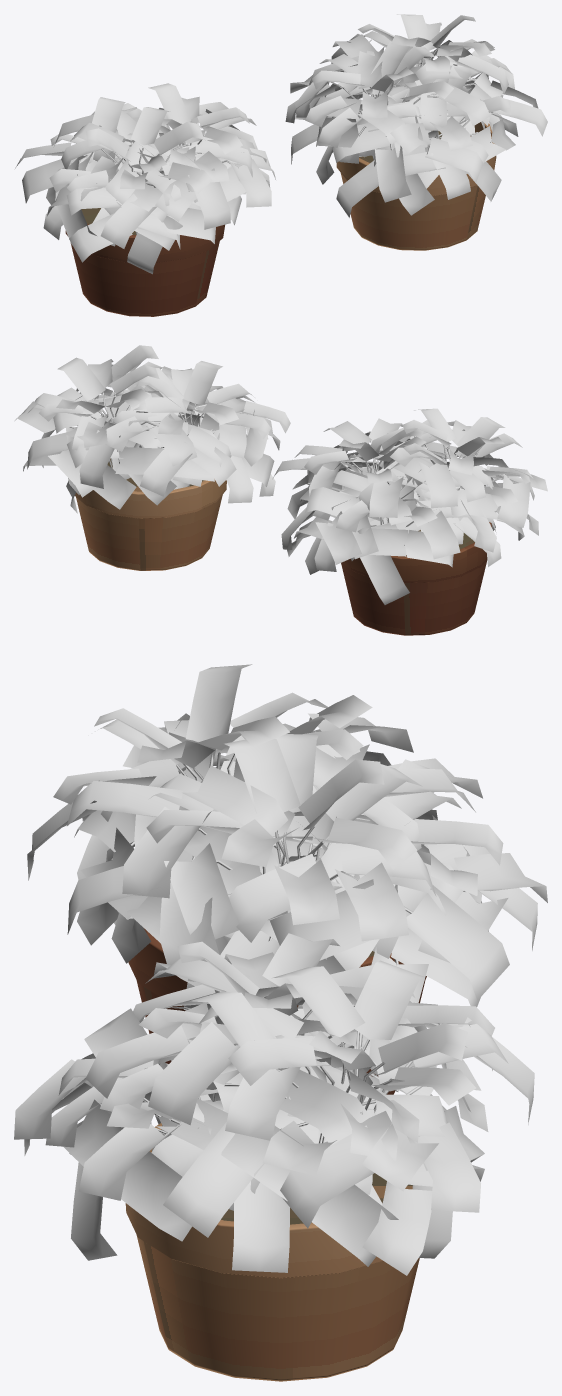
The model's file is a_com_house_a01_plant02.gltf.
3 renders of one model, top to bottom at view 1: azimuth 30°, elevation 25°; view 2: azimuth 150°, elevation 25°; view 3: azimuth 270°, elevation 25°, orthographic. The views are drawn at different scales.
Visible parts, largest first — view 1: um_a_com_house_a01_plant02_model_a_com_house_a01_plant02_mod (×3); view 2: um_a_com_house_a01_plant02_model_a_com_house_a01_plant02_mod (×3); view 3: um_a_com_house_a01_plant02_model_a_com_house_a01_plant02_mod (×3).
Boxes of the visible parts, x1,y1,x2,y2 form: um_a_com_house_a01_plant02_model_a_com_house_a01_plant02_mod (×3): (15,14,547,316); um_a_com_house_a01_plant02_model_a_com_house_a01_plant02_mod (×3): (15,345,547,635); um_a_com_house_a01_plant02_model_a_com_house_a01_plant02_mod (×3): (14,664,547,1381).
Size of the model in its own units: 1.25 by 0.4566 by 0.6205.
Materials: 3 (2 with a texture image).
